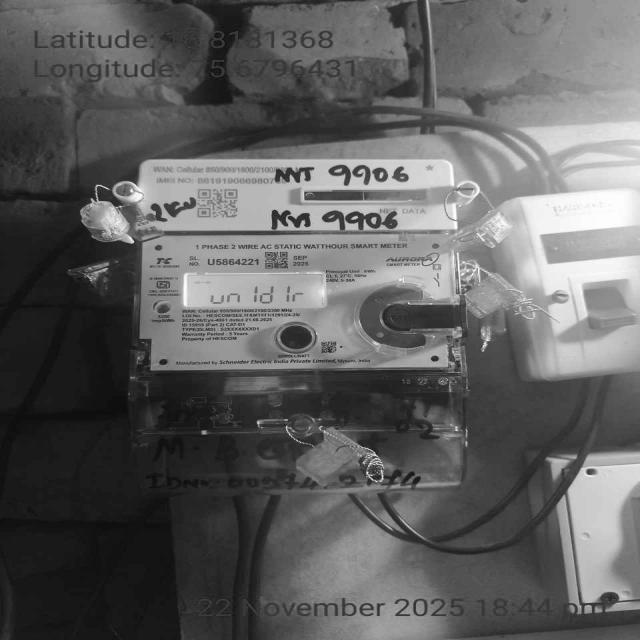meter: (138, 158, 465, 376)
